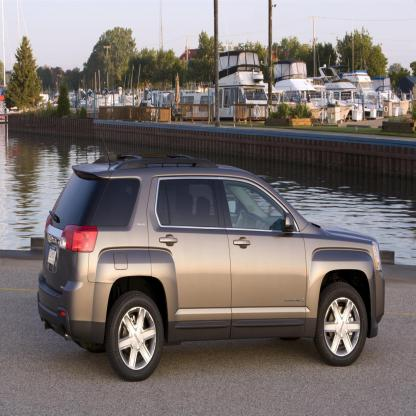Vehicle: (38, 154, 386, 384)
